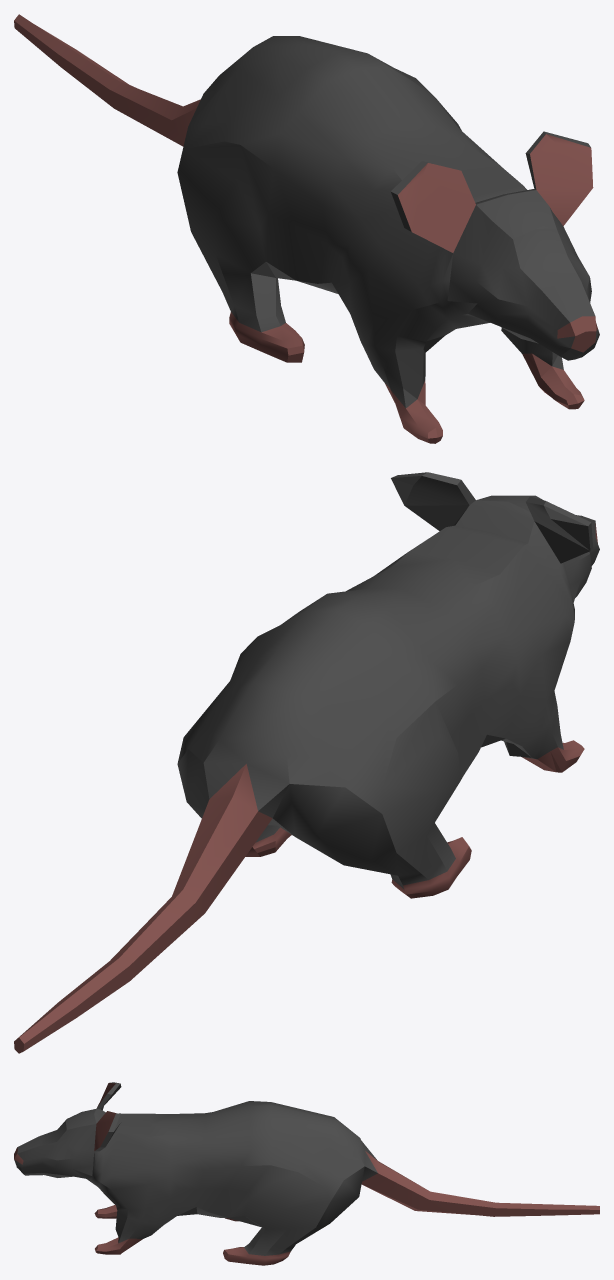
The model's file is Mouse_good.fbx.
The picture shows the model from 3 angles, top to bottom: view 1: azimuth 30°, elevation 25°; view 2: azimuth 150°, elevation 25°; view 3: azimuth 270°, elevation 25°; orthographic projection. The views are drawn at different scales.
Visible parts, largest first — view 1: pCube3; view 2: pCube3; view 3: pCube3.
Part boxes in pixels (box(x1,y1,x2,y2)): pCube3: box(14, 14, 599, 443); pCube3: box(14, 472, 599, 1053); pCube3: box(14, 1082, 599, 1265).
Size of the model in its own units: 0.94 by 1.1 by 4.12.
